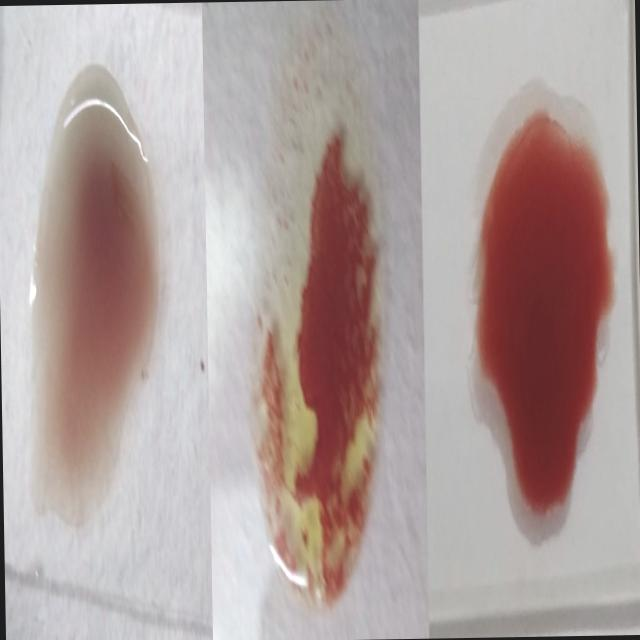B: (249, 49, 379, 616)
